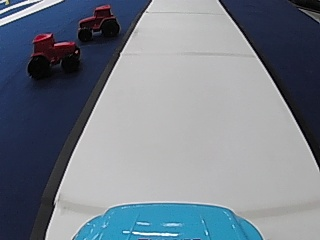Tracktor: (27, 30, 82, 79), (76, 3, 121, 43)
